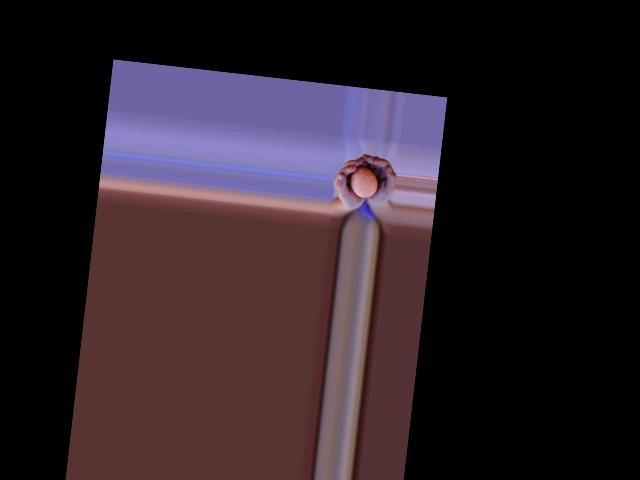egg: (348, 165, 380, 199)
